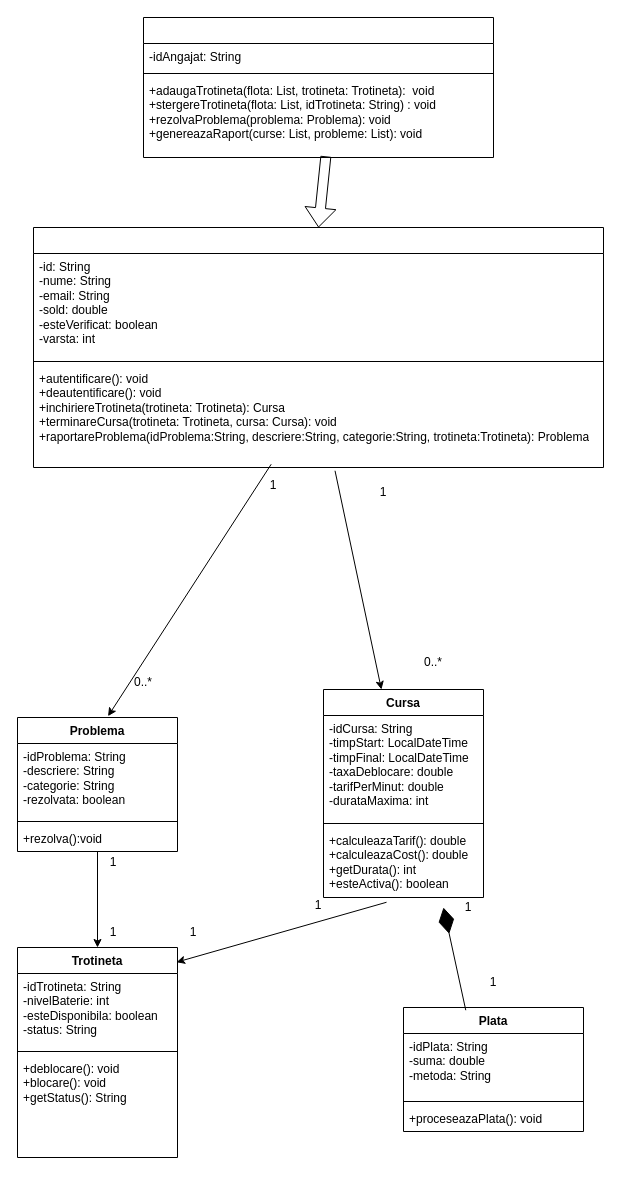
This 621x1178 diagram has some shape labels left out. The box of each missing label's shape, as (x1, y1, x2, y2) in pixels:
Admin: (142, 16, 494, 158)
Client: (32, 226, 604, 468)
